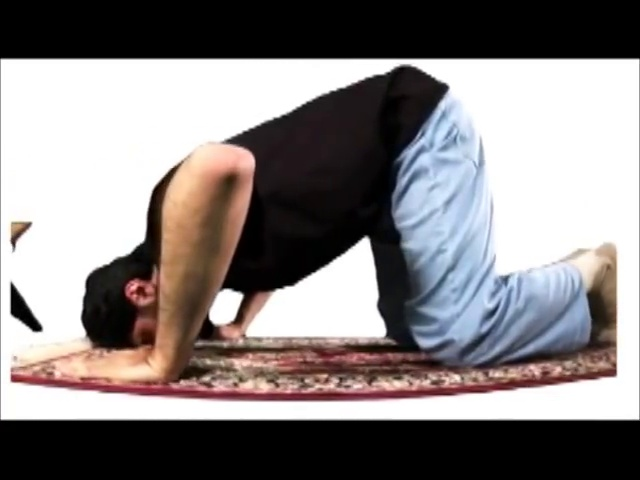sujud: (52, 61, 625, 384)
